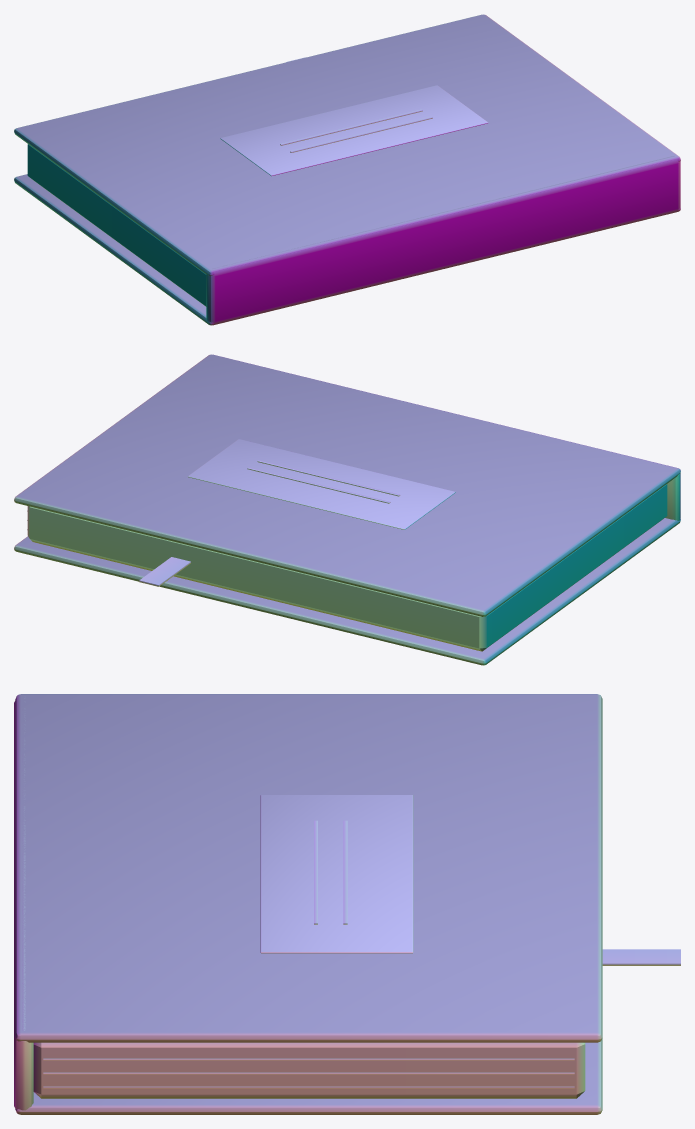
File: env_deco_notebook.glb
The picture shows the model from 3 angles, top to bottom: view 1: azimuth 30°, elevation 25°; view 2: azimuth 150°, elevation 25°; view 3: azimuth 270°, elevation 25°; orthographic projection. The views are drawn at different scales.
Visible parts, largest first — view 1: env_deco_notebook_mesh; view 2: env_deco_notebook_mesh; view 3: env_deco_notebook_mesh.
Boxes of the visible parts, x1,y1,x2,y2 form: env_deco_notebook_mesh: (14,14,680,325); env_deco_notebook_mesh: (14,354,680,665); env_deco_notebook_mesh: (14,694,680,1114).
Size of the model in its own units: 0.58 by 0.0675 by 0.477.
